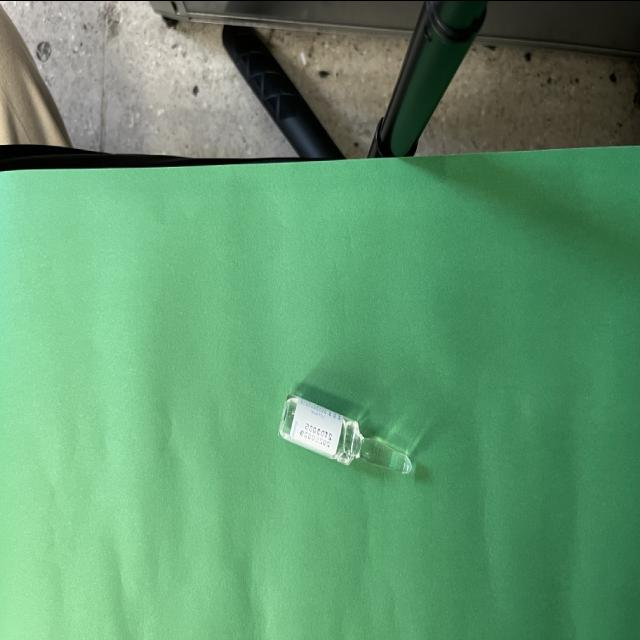Ampoules: (279, 393, 414, 473)
